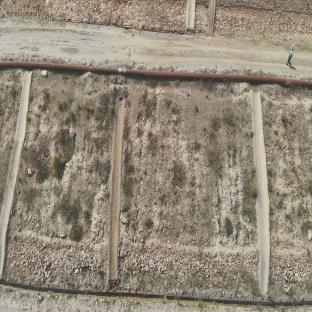rock_toe: (121, 247, 260, 293), (7, 235, 108, 288), (271, 255, 312, 297)
slope_drain: (0, 71, 32, 279), (251, 91, 270, 296), (107, 97, 124, 286)
toe_drain: (0, 280, 312, 311)
